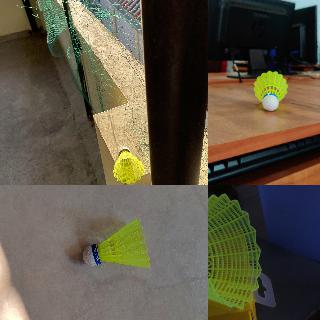shuttlecock: (208, 194, 261, 308), (82, 216, 154, 268), (253, 70, 287, 110), (112, 145, 144, 183)
